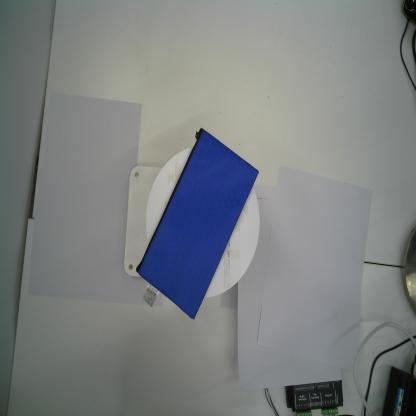Stationery: (136, 128, 259, 320)
